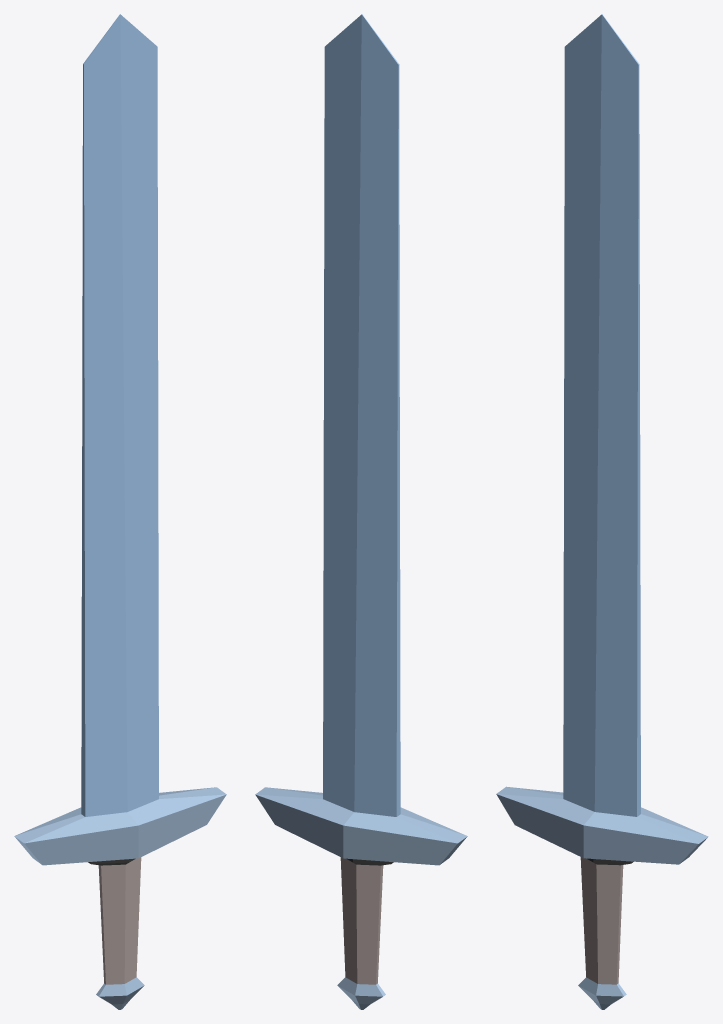
Rendered from Adamantite_Sword.fbx.
The picture shows the model from 3 angles, left to right: view 1: azimuth 30°, elevation 25°; view 2: azimuth 150°, elevation 25°; view 3: azimuth 330°, elevation 25°; orthographic projection.
Visible parts, largest first — view 1: Cube.003; view 2: Cube.003; view 3: Cube.003.
Boxes of the visible parts, x1=… form: Cube.003: x1=14, y1=14, x2=226, y2=1009; Cube.003: x1=255, y1=14, x2=467, y2=1009; Cube.003: x1=496, y1=14, x2=708, y2=1009.
Size of the model in its own units: 56.38 by 265 by 17.82.
